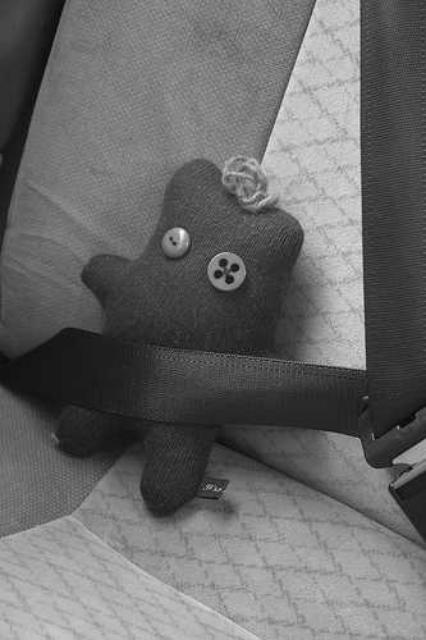Seatbelt: (0, 1, 426, 496)
